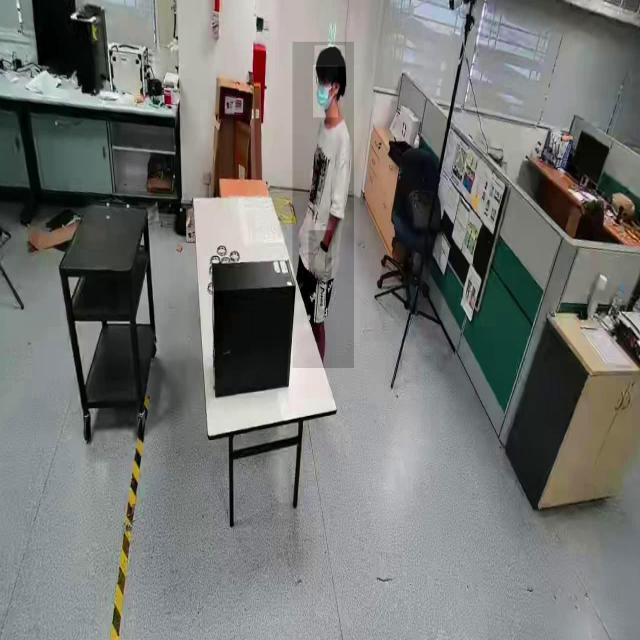face_mask: (313, 65, 338, 117)
hand_glove: (308, 230, 332, 286)
head_nohelmet: (314, 46, 346, 68)
person: (292, 42, 354, 369)
